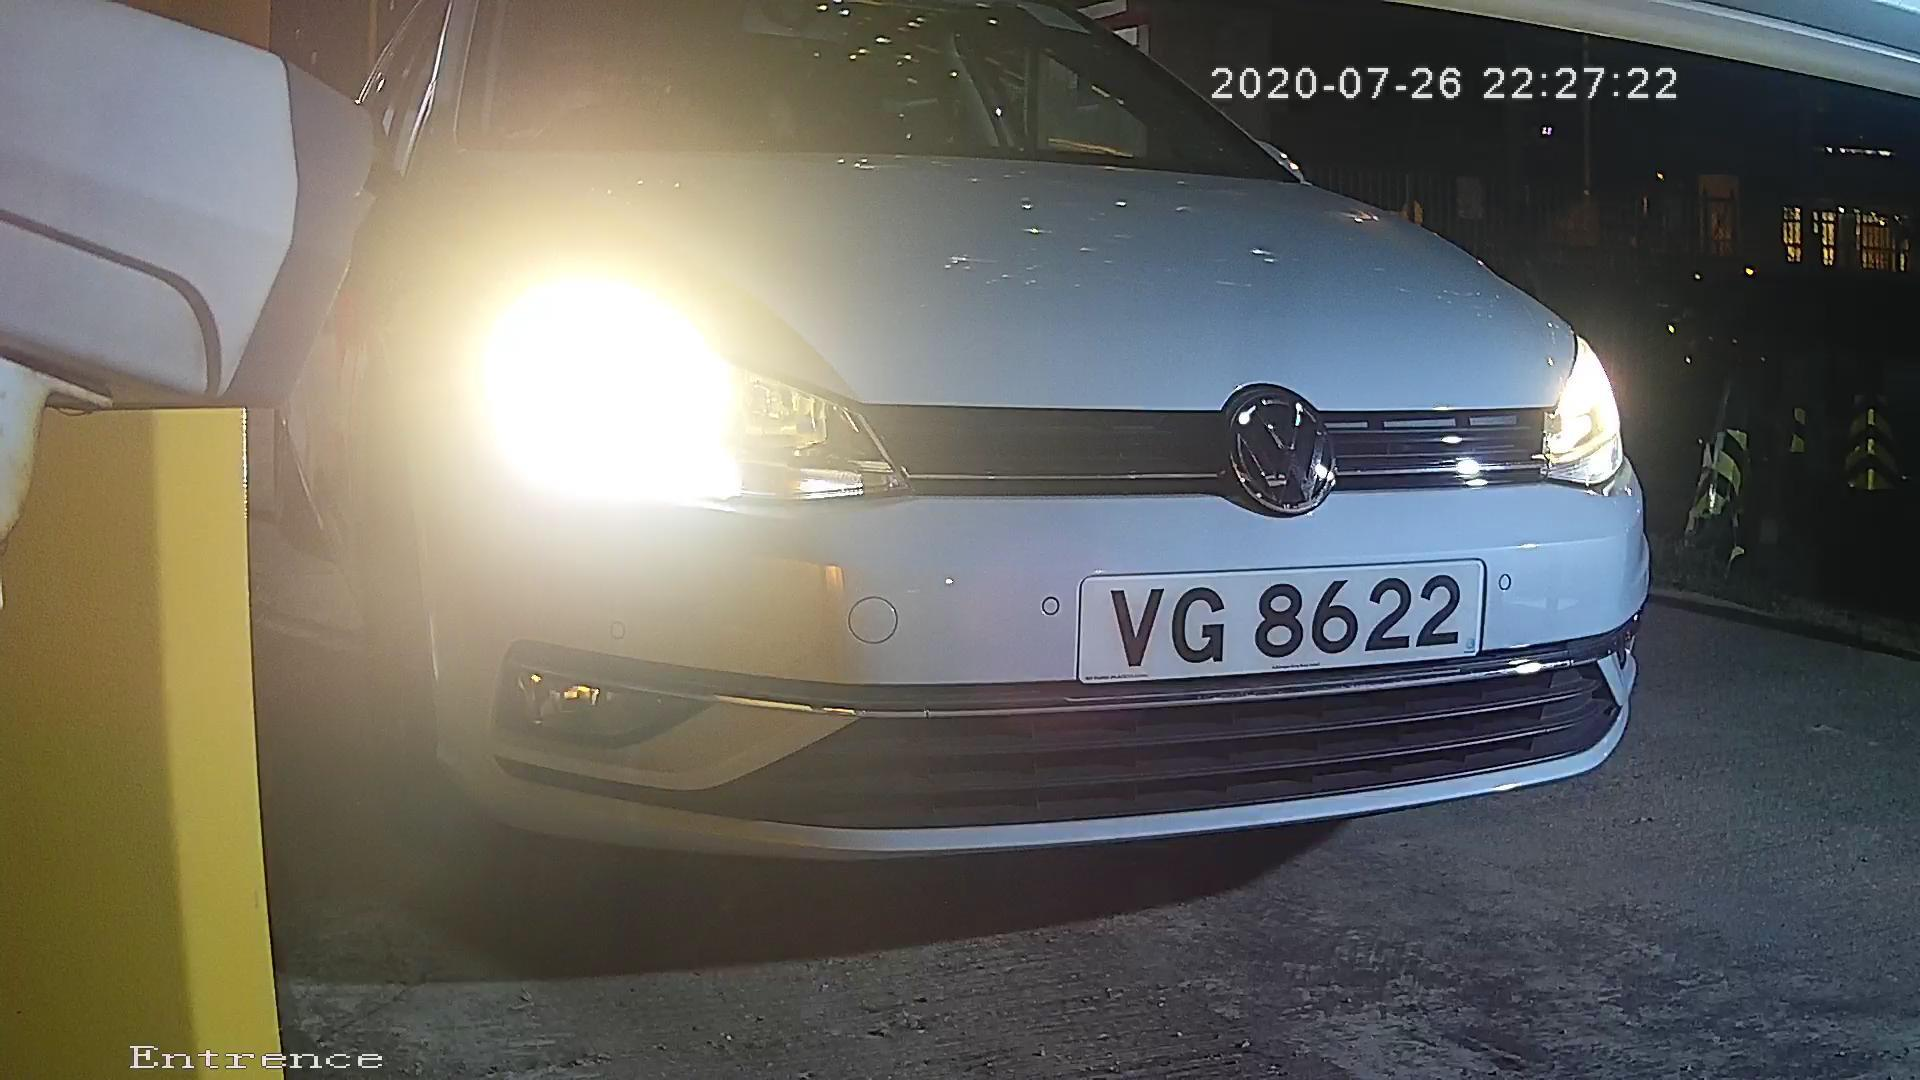Car: (95, 49, 1758, 897)
License Plate: (1055, 550, 1492, 690)
